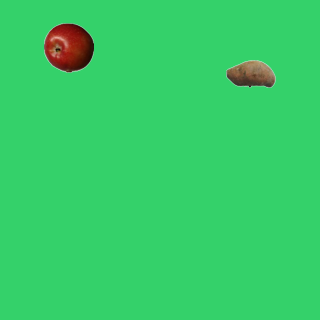Apple Braeburn: (43, 22, 93, 72)
Potato Sweet: (225, 48, 275, 98)
